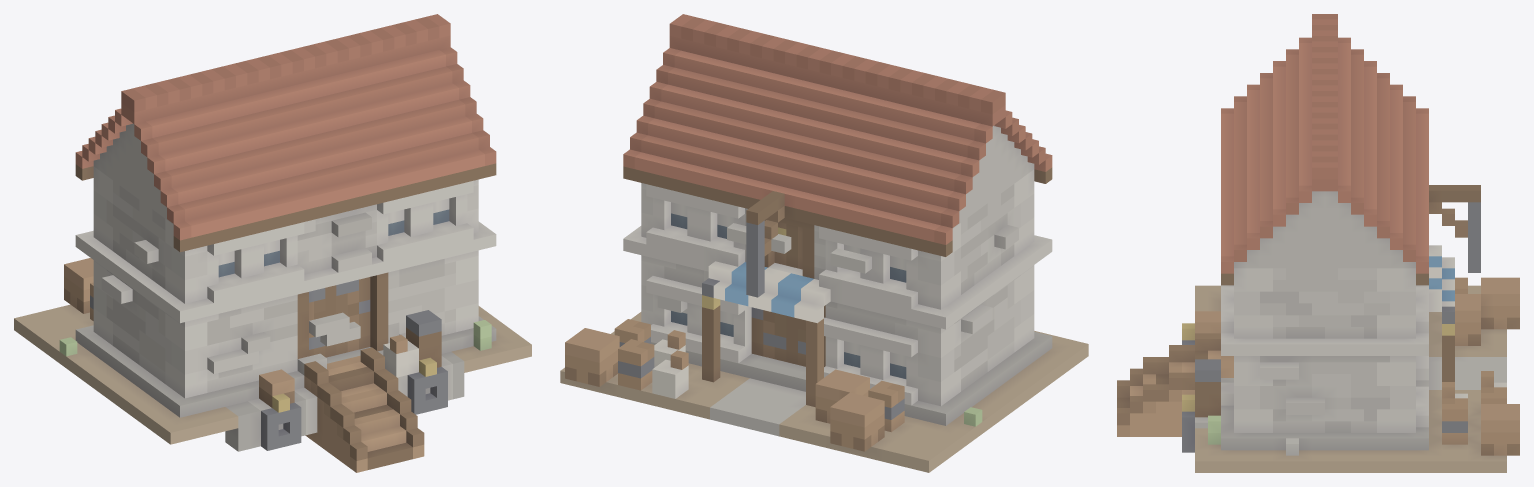
Rendered from depot.l2.glb.
3 renders of one model, left to right at view 1: azimuth 30°, elevation 25°; view 2: azimuth 150°, elevation 25°; view 3: azimuth 270°, elevation 25°, orthographic. The views are drawn at different scales.
Parts seen in each view (by area): view 1: depot; view 2: depot; view 3: depot.
Part boxes in pixels (<box>): depot: <box>14,14,531,472</box>; depot: <box>560,14,1088,472</box>; depot: <box>1117,14,1519,472</box>.
Size of the model in its own units: 4 by 3.5 by 3.88.
